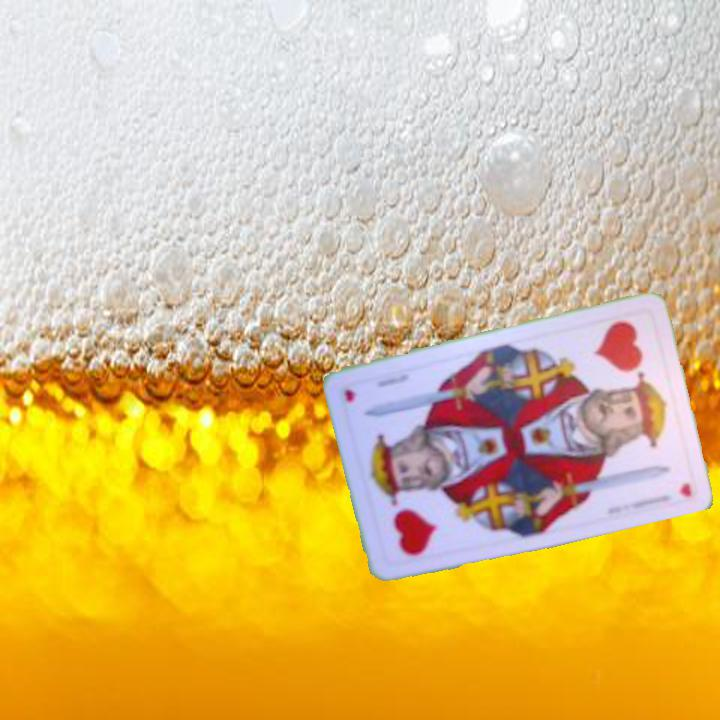h_k.png: (568, 307, 675, 424), (362, 455, 468, 571)
